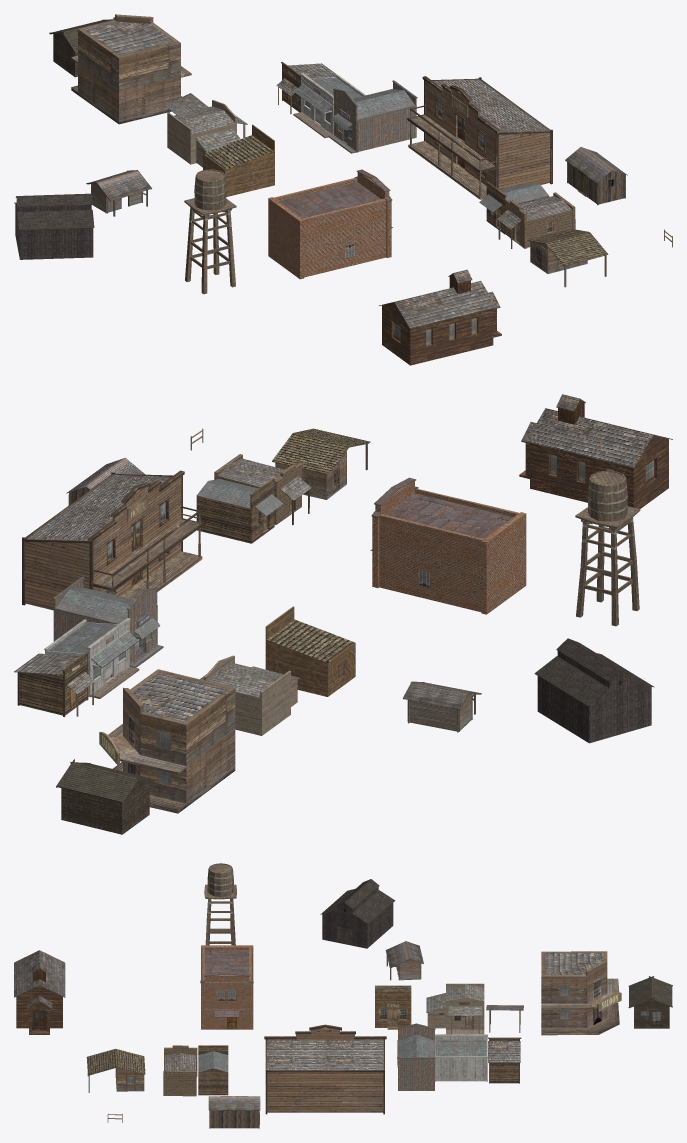
Rendered from Village offices, houses and shops.fbx.
3 views of the same model, one above another, from view 1: azimuth 30°, elevation 25°; view 2: azimuth 150°, elevation 25°; view 3: azimuth 270°, elevation 25° (orthographic). The views are drawn at different scales.
Visible parts, largest first — view 1: model_12, model_7, model_16, model_8, model_15, model_9, model_20, model_11, model_17, model_6, model_5, model_21 (+6 smaller); view 2: model_12, model_7, model_16, model_8, model_15, model_20, model_11, model_18, model_9, model_17, model_1, model_13 (+5 smaller); view 3: model_12, model_16, model_7, model_8, model_15, model_17, model_13, model_9, model_18, model_5, model_20, model_6 (+5 smaller).
Part boxes in pixels (<box>): model_12: <box>407,76,552,199</box>; model_7: <box>268,169,392,279</box>; model_16: <box>71,14,191,124</box>; model_8: <box>379,269,501,365</box>; model_15: <box>14,193,94,259</box>; model_9: <box>328,80,417,153</box>; model_20: <box>184,169,236,294</box>; model_11: <box>203,124,274,196</box>; model_17: <box>167,100,247,167</box>; model_6: <box>497,192,575,248</box>; model_5: <box>527,229,608,287</box>; model_21: <box>565,147,627,205</box>; model_12: <box>22,470,203,610</box>; model_7: <box>370,477,526,614</box>; model_16: <box>99,669,235,813</box>; model_8: <box>519,394,672,508</box>; model_15: <box>534,638,654,743</box>; model_20: <box>575,470,640,626</box>; model_11: <box>265,606,355,696</box>; model_18: <box>56,759,156,834</box>; model_9: <box>52,577,163,667</box>; model_17: <box>200,655,300,735</box>; model_1: <box>196,478,282,543</box>; model_13: <box>44,618,139,698</box>; model_12: <box>264,1024,386,1114</box>; model_16: <box>541,951,621,1035</box>; model_7: <box>200,945,253,1029</box>; model_8: <box>14,950,65,1034</box>; model_15: <box>320,879,395,948</box>; model_17: <box>426,983,484,1034</box>; model_13: <box>434,1034,487,1081</box>; model_9: <box>397,1023,435,1090</box>; model_18: <box>628,976,672,1028</box>; model_5: <box>86,1048,145,1092</box>; model_20: <box>204,863,236,945</box>; model_6: <box>163,1045,197,1096</box>.
Bounding box in the file's own units: 827 × 182 × 1095.
2 materials, 2 textured.
